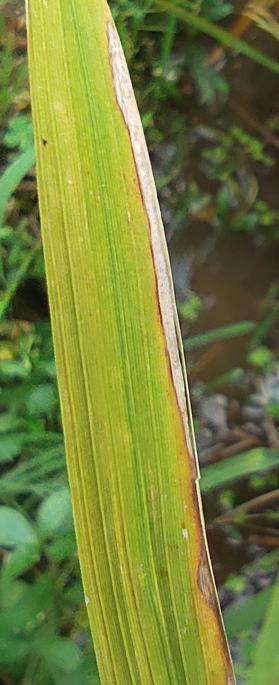BLB: (104, 11, 199, 479)
LEAF: (26, 0, 236, 684)
